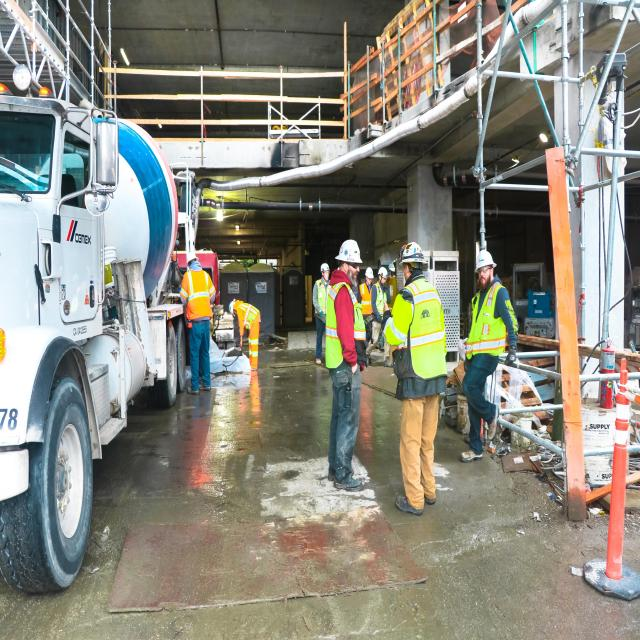Vest: (391, 279, 450, 386), (325, 278, 369, 377), (468, 287, 508, 362), (178, 264, 214, 322), (314, 277, 334, 320), (370, 281, 389, 319), (237, 298, 260, 328), (358, 282, 376, 319)
